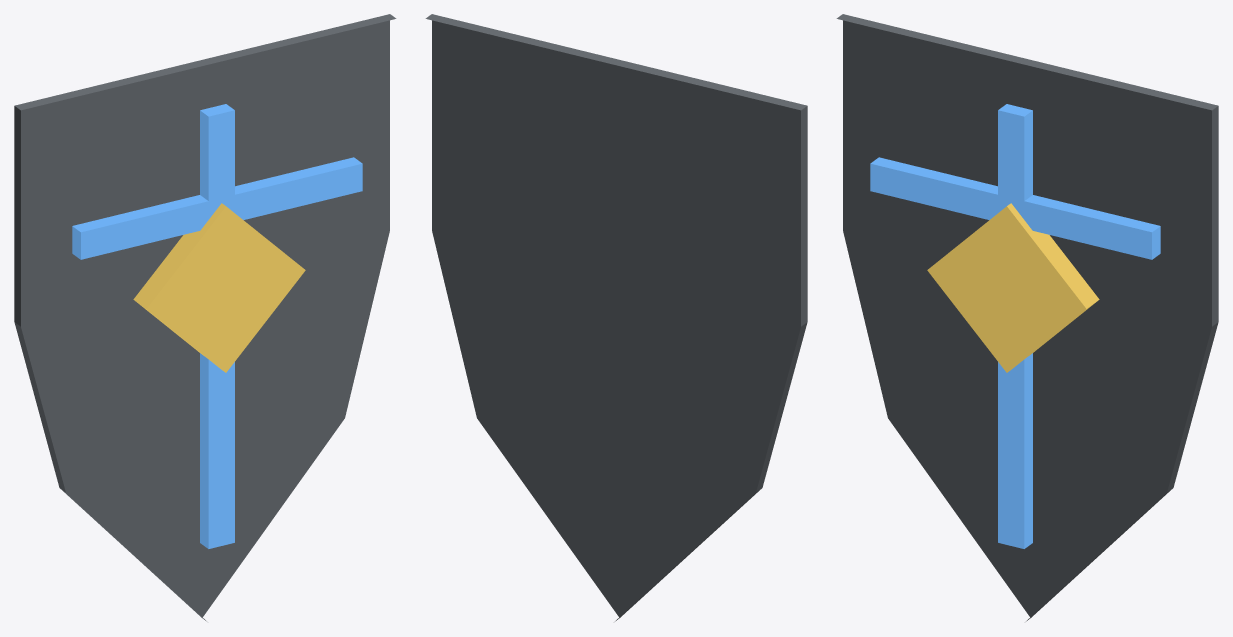
Rendered from dk_emb_1.glb.
3 renders of one model, left to right at view 1: azimuth 30°, elevation 25°; view 2: azimuth 150°, elevation 25°; view 3: azimuth 330°, elevation 25°, orthographic.
Parts seen in each view (by area): view 1: dk_emb_1; view 2: dk_emb_1; view 3: dk_emb_1.
Part boxes in pixels (x1,y1,x2,y2): dk_emb_1: [14, 14, 396, 621]; dk_emb_1: [425, 14, 807, 621]; dk_emb_1: [836, 14, 1218, 621].
Size of the model in its own units: 1 by 1.42 by 0.11.
Materials: 2 (2 with a texture image).
